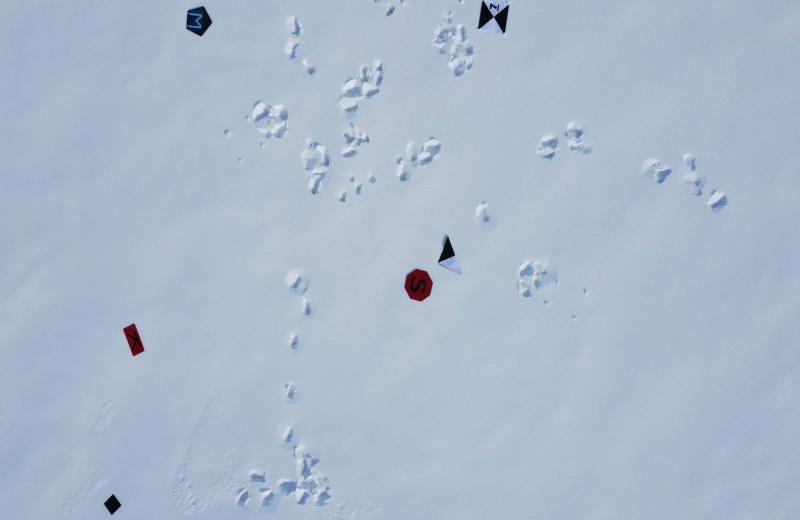Octagon: (400, 265, 436, 305)
Pentagon: (183, 1, 216, 38)
Rectangle: (119, 322, 149, 359)
Square: (103, 493, 123, 516)
